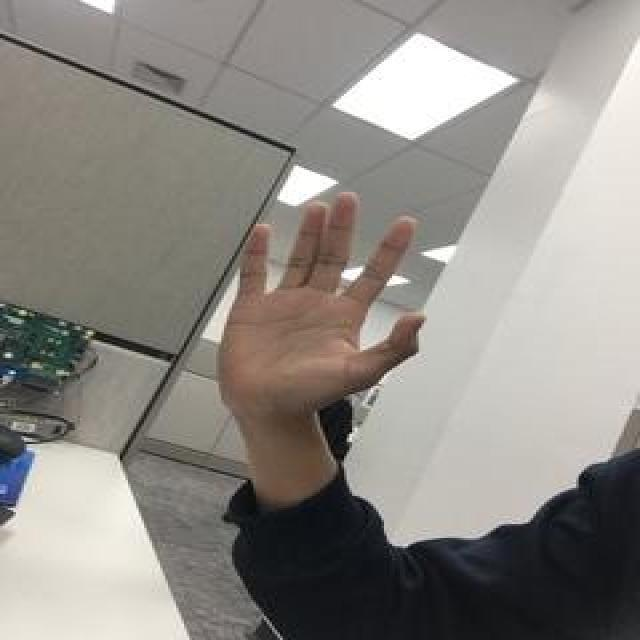no-gloves: (216, 190, 432, 422)
